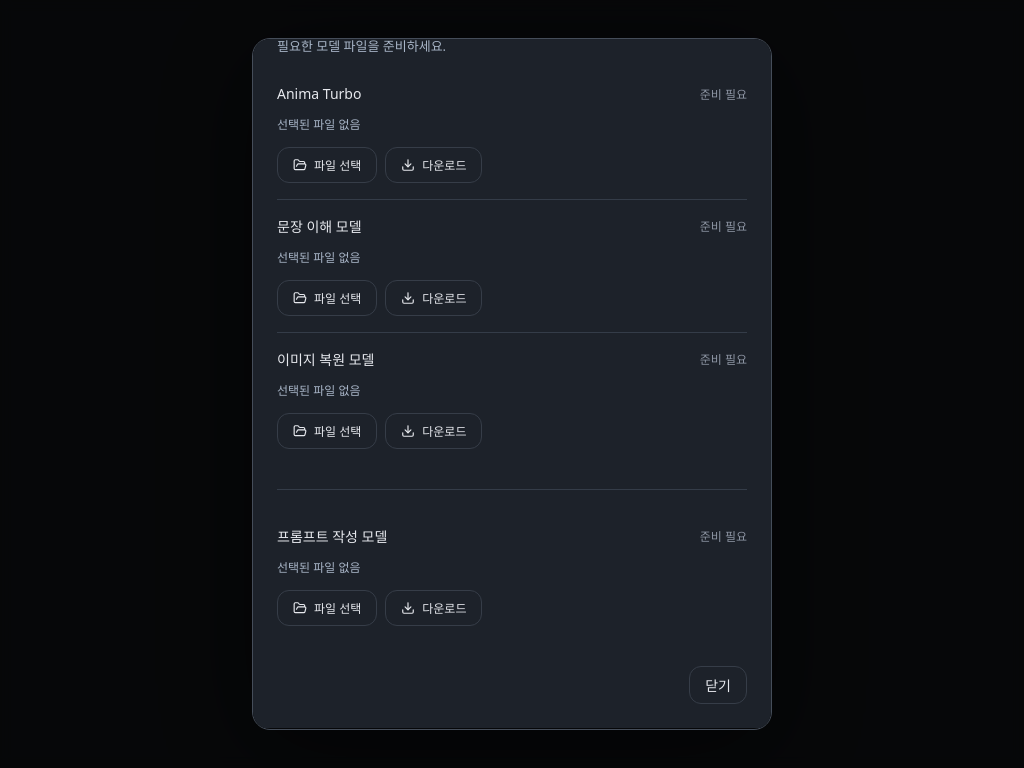
it: offers local selection and download for a missing model without exposing backend paths
(page scrolled)
Expected: the heading "프롬프트 작성 모델" is shown, [277,526,387,546]
Click the button "파일 선택" below "프롬프트 작성 모델". click: {"x": 327, "y": 608}
box: [277,590,377,626]
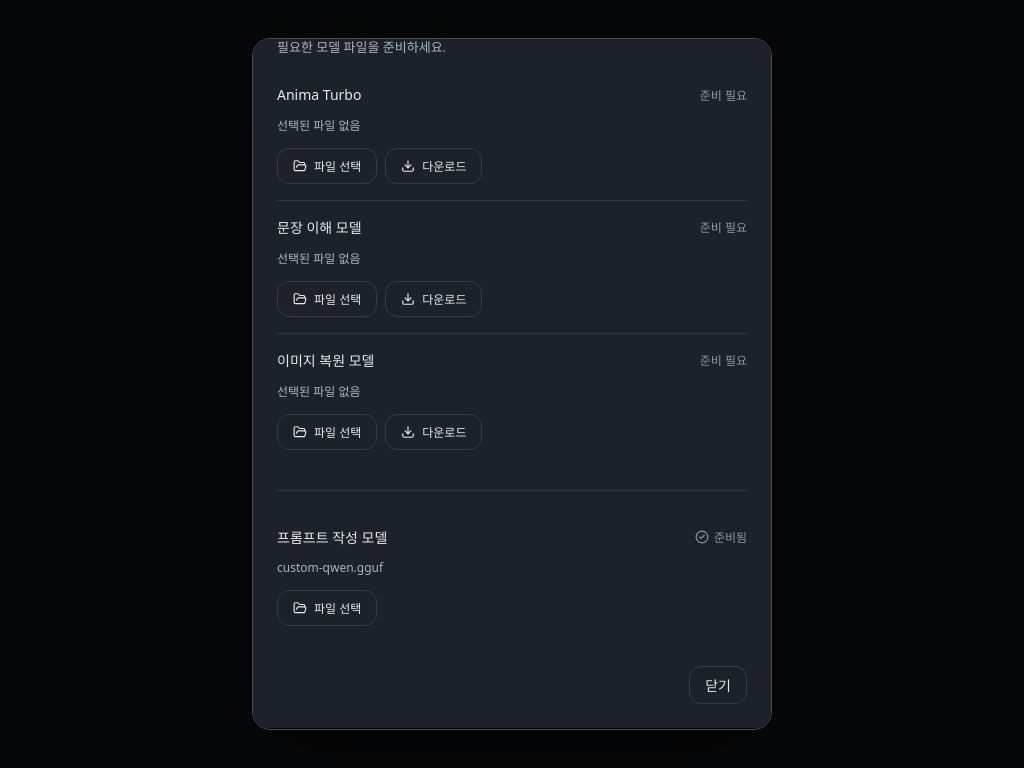
Expected: the dialog "모델 준비" is shown, [252,38,772,730]
Result: the text "준비됨" is shown at [695,527,747,547]
Result: the text "custom-qwen.gguf" is shown at [277,559,383,576]
